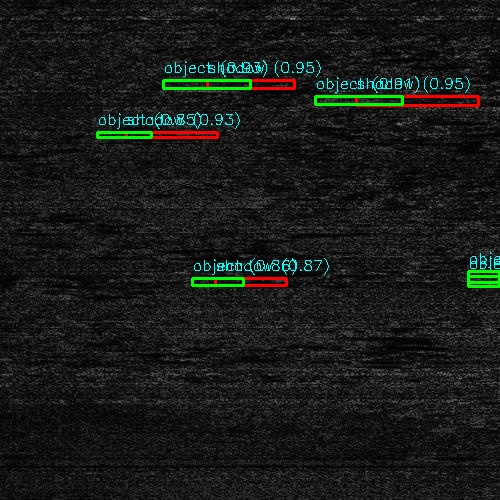rock: (317, 96, 400, 105), (166, 81, 259, 88), (191, 278, 244, 285), (104, 133, 157, 138)
shadow: (359, 96, 463, 105), (213, 81, 286, 88), (218, 278, 288, 285), (131, 133, 213, 138)
